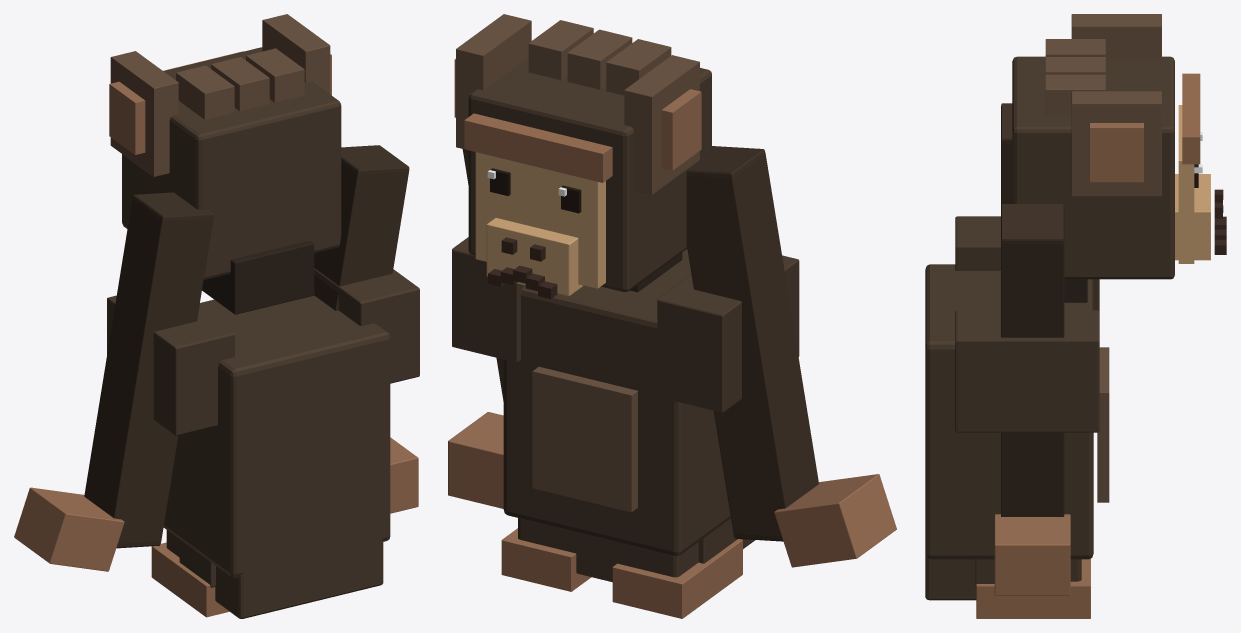
File: chimpanzee.glb
The picture shows the model from 3 angles, left to right: view 1: azimuth 30°, elevation 25°; view 2: azimuth 150°, elevation 25°; view 3: azimuth 270°, elevation 25°; orthographic projection. The views are drawn at different scales.
Parts seen in each view (by area): view 1: body, head, arm.R, arm.L, ear.R, leg.FR, ear.L; view 2: body, head, arm.R, ear.R, leg.FR, arm.L, ear.L, leg.FL; view 3: body, head, arm.L, ear.L, leg.FL, ear.R, arm.R.
Boxes of the visible parts, bbox=[...] form: body: bbox=[107, 268, 419, 618]; head: bbox=[122, 47, 341, 314]; arm.R: bbox=[14, 192, 213, 571]; arm.L: bbox=[314, 145, 418, 513]; ear.R: bbox=[109, 51, 178, 176]; leg.FR: bbox=[151, 539, 229, 617]; ear.L: bbox=[262, 14, 331, 95]; body: bbox=[452, 237, 799, 582]; head: bbox=[464, 20, 711, 299]; arm.R: bbox=[686, 146, 896, 567]; ear.R: bbox=[624, 55, 701, 194]; leg.FR: bbox=[612, 518, 742, 618]; arm.L: bbox=[448, 149, 503, 508]; ear.L: bbox=[454, 14, 531, 148]; leg.FL: bbox=[501, 528, 591, 591]; body: bbox=[925, 216, 1109, 600]; head: bbox=[1012, 39, 1226, 302]; arm.L: bbox=[994, 204, 1070, 595]; ear.L: bbox=[1071, 91, 1161, 196]; leg.FL: bbox=[975, 558, 1090, 618]; ear.R: bbox=[1071, 14, 1161, 59]; arm.R: bbox=[1001, 103, 1012, 205].
Size of the model in its own units: 0.776 by 1 by 0.5269.
